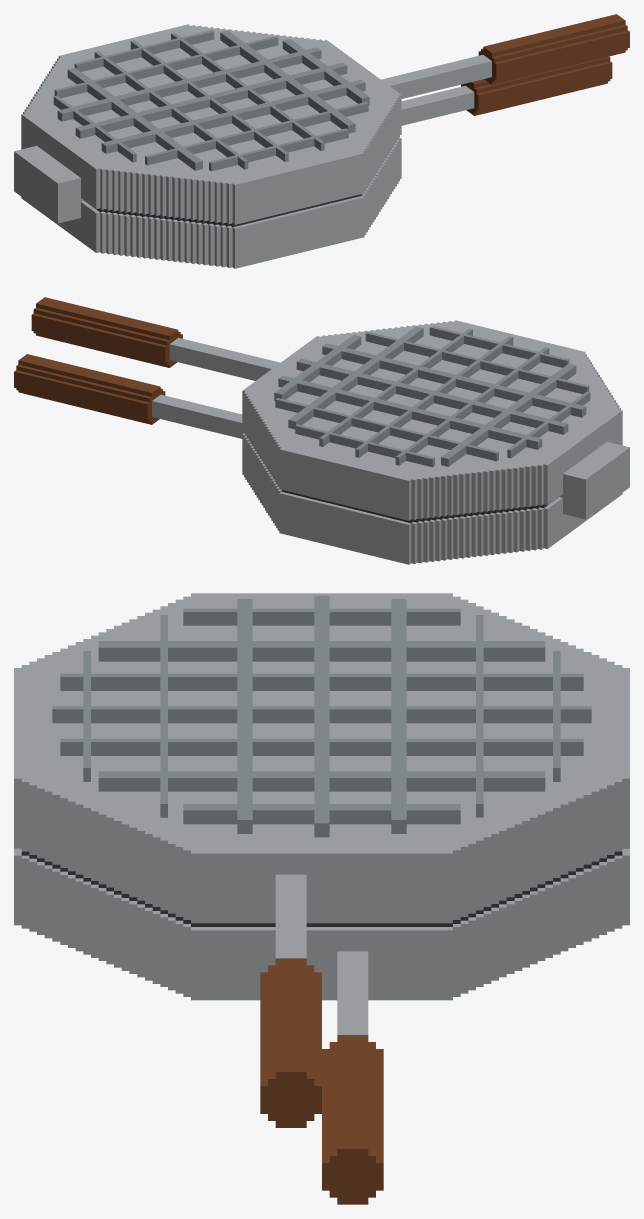
The model's file is waffleiron.glb.
The picture shows the model from 3 angles, top to bottom: view 1: azimuth 30°, elevation 25°; view 2: azimuth 150°, elevation 25°; view 3: azimuth 270°, elevation 25°; orthographic projection. The views are drawn at different scales.
Visible parts, largest first — view 1: waffleiron:compound; view 2: waffleiron:compound; view 3: waffleiron:compound.
Boxes of the visible parts, left/top/right/bottom form: waffleiron:compound: left=14, top=14, right=629, bottom=268; waffleiron:compound: left=14, top=297, right=629, bottom=564; waffleiron:compound: left=14, top=593, right=629, bottom=1204.
Size of the model in its own units: 0.302 by 0.046 by 0.16.
